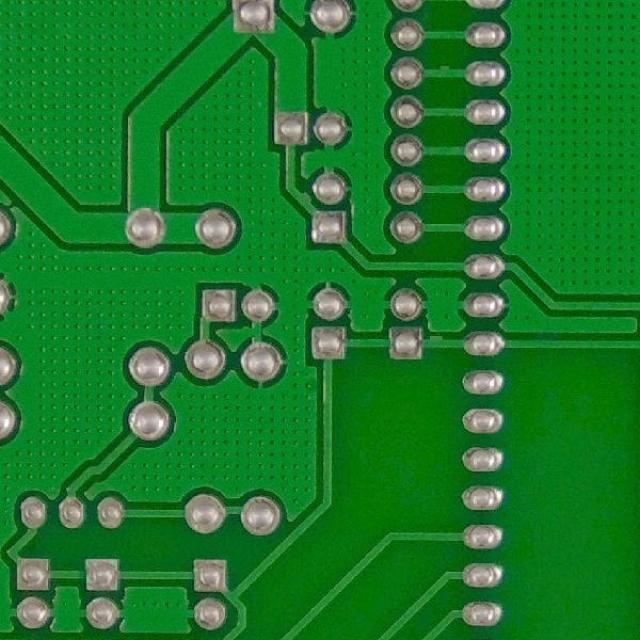spur: (426, 328, 450, 351), (293, 186, 317, 209), (434, 57, 460, 78)
